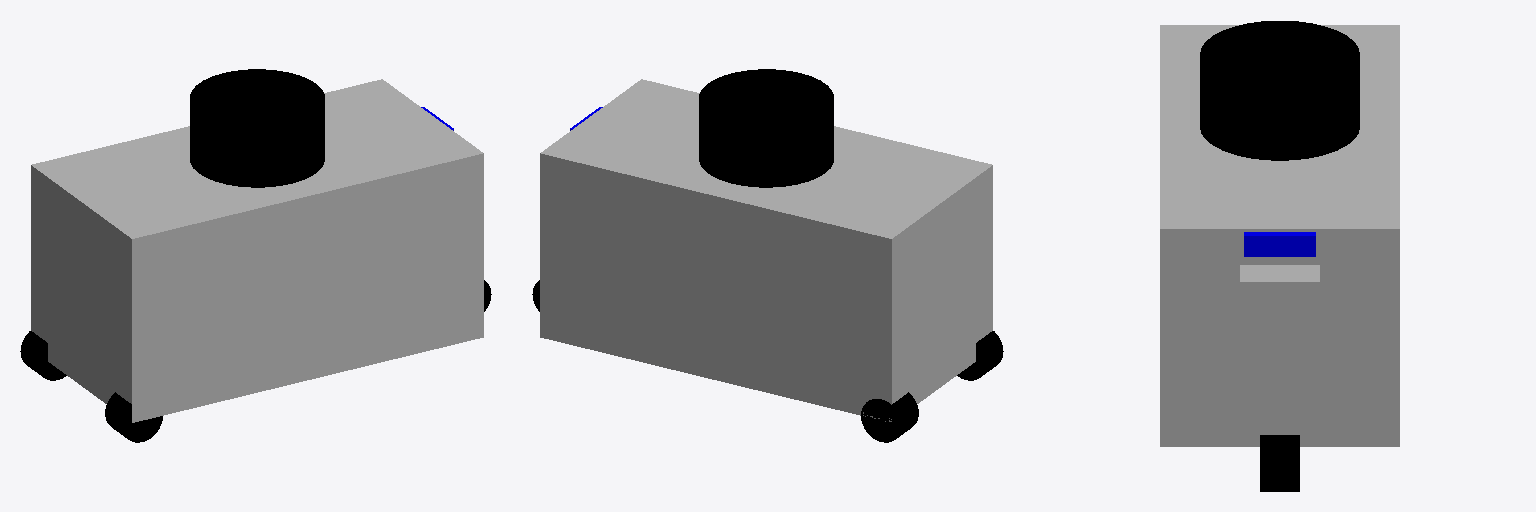
URDF robot description (tortoisebot):
<?xml version="1.0"?>
<robot name="tortoisebot">

  <material name="silver">
    <color rgba="0.75 0.75 0.75 1.0"/>
  </material>
  <material name="black">
    <color rgba="0.0 0.0 0.0 1.0"/>
  </material>

  <link name="base_link">
    <visual>
      <geometry>
        <box size="0.6 0.3 0.3"/>
      </geometry>
      <material name="silver">
        <color rgba="0.75 0.75 0.75 1.0"/>
      </material>
    </visual>
    <collision>
      <geometry>
        <box size="0.6 0.3 0.3"/>
      </geometry>
    </collision>
    <inertial>
      <mass value="1.0"/>
      <inertia ixx="0.015" iyy="0.0375" izz="0.0375" ixy="0" ixz="0" iyz="0"/>
    </inertial>
  </link>

  <!-- LiDAR Link -->
<link name="lidar_link">
  <visual>
    <geometry>
      <cylinder length="0.10" radius="0.10"/>
    </geometry>
    <material name="black">
    <color rgba="0.0 0.0 0.0 1.0"/>
    </material>
  </visual>
  <!-- Add to My lidar_link -->
<collision>
  <geometry>
    <cylinder length="0.10" radius="0.10"/>
  </geometry>
</collision>
<inertial>
  <mass value="0.125"/>
  <inertia ixx="0.001" iyy="0.001" izz="0.001" ixy="0" ixz="0" iyz="0"/>
</inertial>

</link>

  <joint name="lidar_joint" type="fixed">
  <parent link="base_link"/>
  <child link="lidar_link"/>
  <origin xyz="0 0 0.2" rpy="0 0 0"/>
</joint>


  <link name="front_caster">
    <visual>
      <geometry>
        <box size="0.1 0.1 0.2"/>
      </geometry>
      <material name="silver"/>
    </visual>
    <collision>
      <geometry>
        <box size="0.1 0.1 0.2"/>
      </geometry>
    </collision>
    <inertial>
      <mass value="0.1"/>
      <inertia ixx="0.00083" iyy="0.00083" izz="0.000167" ixy="0" ixz="0" iyz="0"/>
    </inertial>
  </link>

  <joint name="front_caster_joint" type="continuous">
    <axis xyz="0 0 1"/>
    <parent link="base_link"/>
    <child link="front_caster"/>
    <origin rpy="0 0 0" xyz="0.3 0 0"/>
  </joint>

  <link name="front_wheel">
    <visual>
      <geometry>
        <cylinder length="0.05" radius="0.035"/>
      </geometry>
      <material name="black"/>
    </visual>
    <collision>
      <geometry>
        <cylinder length="0.05" radius="0.035"/>
      </geometry>
    </collision>
    <inertial>
      <mass value="0.1"/>
      <inertia ixx="5.1458e-5" iyy="5.1458e-5" izz="6.125e-5" ixy="0" ixz="0" iyz="0"/>
    </inertial>
  </link>

  <joint name="front_wheel_joint" type="continuous">
    <axis xyz="0 0 1"/>
    <parent link="front_caster"/>
    <child link="front_wheel"/>
    <origin rpy="-1.5708 0 0" xyz="0.05 0 -.15"/>
  </joint>

  <link name="right_wheel">
    <visual>
      <geometry>
        <cylinder length="0.05" radius="0.035"/>
      </geometry>
      <material name="black">
        <color rgba="0 0 0 1"/>
      </material>
    </visual>
    <collision>
      <geometry>
        <cylinder length="0.05" radius="0.035"/>
      </geometry>
    </collision>
    <inertial>
      <mass value="0.1"/>
      <inertia ixx="5.1458e-5" iyy="5.1458e-5" izz="6.125e-5" ixy="0" ixz="0" iyz="0"/>
    </inertial>
  </link>

  <joint name="right_wheel_joint" type="continuous">
    <axis xyz="0 0 1"/>
    <parent link="base_link"/>
    <child link="right_wheel"/>
    <origin rpy="-1.5708 0 0" xyz="-0.2825 -0.125 -.15"/>
  </joint>

  <link name="left_wheel">
    <visual>
      <geometry>
        <cylinder length="0.05" radius="0.035"/>
      </geometry>
      <material name="black"/>
    </visual>
    <collision>
      <geometry>
        <cylinder length="0.05" radius="0.035"/>
      </geometry>
    </collision>
    <inertial>
      <mass value="0.1"/>
      <inertia ixx="5.1458e-5" iyy="5.1458e-5" izz="6.125e-5" ixy="0" ixz="0" iyz="0"/>
    </inertial>
  </link>

  <joint name="left_wheel_joint" type="continuous">
    <axis xyz="0 0 1"/>
    <parent link="base_link"/>
    <child link="left_wheel"/>
    <origin rpy="-1.5708 0 0" xyz="-0.2825 0.125 -.15"/>
  </joint>

  
  <link name ="base_footprint">
  </link>

  <joint name ="base_footprint_joint" type="fixed">
    <parent link="base_footprint"/>
    <child link="base_link"/>
    <origin rpy="0 0 0" xyz="0 0 -0.1"/>
  </joint>


<link name="camera_link">
    <visual>
        <geometry>
            <box size="0.02 0.09 0.03"/>
        </geometry>
      <material name="blue">
        <color rgba="0.0 0.0 1.0 1.0"/>
        </material>
    </visual>
    <collision>
        <geometry>
            <box size="0.010 0.03 0.03"/>
        </geometry>
    </collision>
    <inertial>
        <mass value="0.01"/>
        <inertia ixx="0.0001" ixy="0.0" ixz="0.0" iyy="0.0001" iyz="0.0" izz="0.0001"/>
    </inertial>
</link>
  <joint name="camera_joint" type="fixed">
    <parent link="base_link"/>
    <child link="camera_link"/>
    <origin xyz="0.3 0.0 0.13" rpy="0 0 0"/>
  </joint>

<gazebo reference="camera_link">
  <sensor name="depth_camera" type="rgbd_camera">
  <gz_frame_id>camera_link</gz_frame_id>
    <update_rate>30</update_rate>
    <pose>0 0 0 0 0 0</pose>
    <camera>
      <horizontal_fov>2</horizontal_fov>
      <image>
        <width>640</width>
        <height>480</height>
        <format>R8G8B8</format>
      </image>
      <clip>
        <near>0.1</near>
        <far>5.0</far>
      </clip>
    </camera>
    <always_on>1</always_on>
    <visualize>true</visualize>
    <topic>depth_camera</topic>
  </sensor>
</gazebo>

<gazebo reference="lidar_link">
  <sensor name="gpu_lidar" type="gpu_lidar">"
    <pose relative_to='lidar_link'>0 0 0 0 0 0</pose>
    <gz_frame_id>lidar_link</gz_frame_id>
    
    <topic>scan</topic>
    <update_rate>10</update_rate>
    <ray>
        <scan>
            <horizontal>
                <samples>640</samples>
                <resolution>1</resolution>
                <min_angle>-3.14</min_angle>
                <max_angle>3.14</max_angle>
            </horizontal>
            <vertical>
                <samples>1</samples>
                <resolution>0.01</resolution>
                <min_angle>0</min_angle>
                <max_angle>0</max_angle>
            </vertical>
        </scan>
        <range>
            <min>0.08</min>
            <max>10.0</max>
            <resolution>0.01</resolution>

        </range>
        <noise type="gaussian">
            <mean>0.0</mean>               <!-- Center of noise -->
            <stddev>0.02</stddev>          <!-- Strength of noise (higher = more spikes) -->
          </noise>
    </ray>
    <always_on>1</always_on>
    <visualize>true</visualize>
    <plugin
      filename="gz-sim-sensors-system"
      name="gz::sim::systems::Sensors">
      <render_engine>ogre2</render_engine>
  </plugin>
  </sensor>
</gazebo>

<gazebo>
  <plugin
    filename="gz-sim-joint-state-publisher-system"
    name="gz::sim::systems::JointStatePublisher">
    <topic>joint_states</topic>
    <joint_name>left_wheel_joint</joint_name>
    <joint_name>right_wheel_joint</joint_name>
    <joint_name>front_caster_joint</joint_name>
    <joint_name>front_wheel_joint</joint_name>
  </plugin>
</gazebo>

<gazebo>
 <plugin filename="gz-sim-diff-drive-system" name="gz::sim::systems::DiffDrive">
  <left_joint>left_wheel_joint</left_joint>
  <right_joint>right_wheel_joint</right_joint>
  <wheel_separation>0.25</wheel_separation>
  <wheel_radius>0.035</wheel_radius>
  <frame_id>odom</frame_id>
  <odom_topic>odom</odom_topic>
  <child_frame_id>base_footprint</child_frame_id>
  <topic>cmd_vel</topic>
  <tf_topic>tf</tf_topic>
  <publish_tf>true</publish_tf>
  <publishWheelJointState>true</publishWheelJointState> 
 </plugin>
</gazebo>

</robot>

--- Render facts (derived) ---
The picture shows the robot from 3 angles, left to right: view 1: azimuth 30°, elevation 25°; view 2: azimuth 150°, elevation 25°; view 3: azimuth 270°, elevation 25°; orthographic projection.
Robot: tortoisebot — 8 links, 7 joints (4 continuous, 3 fixed); root link base_footprint; default pose: all joints at 0.
Visible links, largest first — view 1: base_link, lidar_link, right_wheel, left_wheel; view 2: base_link, lidar_link, left_wheel, right_wheel; view 3: base_link, lidar_link, front_caster, front_wheel, camera_link.
Link boxes in pixels (x1,y1,x2,y2): base_link: [31, 79, 483, 422]; lidar_link: [190, 69, 324, 187]; right_wheel: [105, 392, 162, 442]; left_wheel: [20, 331, 66, 380]; base_link: [540, 79, 992, 421]; lidar_link: [699, 69, 833, 187]; left_wheel: [861, 392, 918, 442]; right_wheel: [957, 331, 1003, 380]; base_link: [1160, 25, 1399, 446]; lidar_link: [1200, 21, 1359, 160]; front_caster: [1240, 265, 1319, 426]; front_wheel: [1260, 435, 1299, 491]; camera_link: [1244, 232, 1315, 256].
Size in the robot's own frame: 0.7025 by 0.3 by 0.435 metres.
Geometry: primitives only (box / cylinder / sphere), no mesh files.
